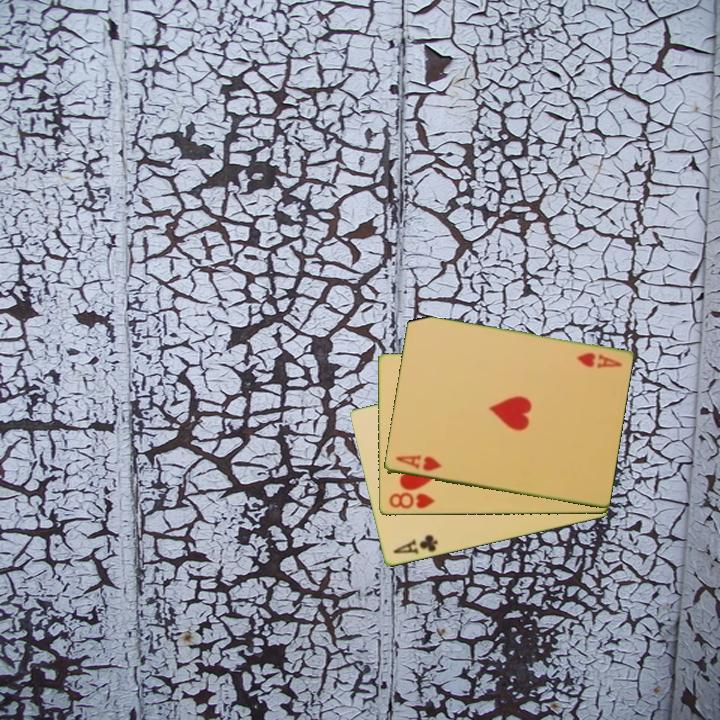8h: (385, 489, 438, 512)
Ac: (389, 531, 440, 557)
Ah: (392, 451, 445, 474), (573, 349, 625, 371)
